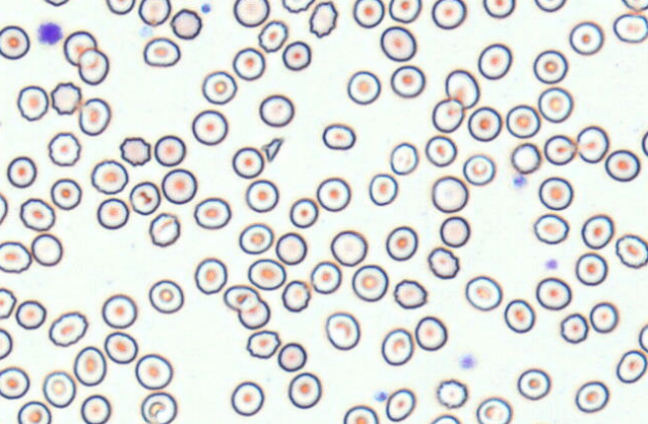PLT: (36, 22, 63, 46), (511, 175, 531, 193), (459, 354, 477, 370), (544, 258, 560, 271), (373, 390, 388, 403), (200, 3, 213, 16)
RBC: (48, 310, 88, 347), (134, 353, 173, 390), (431, 175, 468, 213), (351, 264, 388, 302), (444, 68, 479, 108), (330, 229, 367, 266), (464, 275, 502, 311), (325, 311, 360, 350), (73, 345, 106, 386), (380, 25, 416, 62), (191, 109, 228, 145), (537, 86, 573, 123), (90, 159, 128, 194), (477, 42, 512, 80), (161, 168, 197, 204), (101, 293, 137, 329), (532, 48, 568, 84), (287, 371, 321, 409), (42, 370, 76, 408), (78, 97, 111, 136), (201, 70, 237, 105), (316, 176, 351, 212), (148, 279, 184, 314), (193, 196, 231, 229), (576, 125, 609, 163), (247, 258, 286, 290), (381, 327, 413, 366), (346, 70, 381, 105), (467, 106, 502, 141), (569, 20, 604, 55), (63, 30, 97, 66), (230, 380, 264, 416), (19, 197, 55, 231), (258, 93, 294, 127), (535, 276, 571, 310), (580, 213, 614, 249), (194, 257, 227, 294), (77, 47, 109, 85), (47, 131, 81, 166), (538, 176, 573, 210), (390, 64, 425, 98), (505, 104, 540, 138), (431, 97, 464, 133), (604, 149, 640, 182), (414, 315, 447, 351), (385, 225, 418, 261), (140, 391, 177, 423), (142, 36, 180, 67), (103, 331, 138, 364), (574, 380, 609, 413), (516, 367, 551, 400), (16, 85, 48, 121), (308, 0, 338, 38), (232, 47, 265, 81), (245, 179, 279, 212), (575, 252, 608, 286), (148, 212, 180, 247), (238, 222, 273, 254), (503, 298, 535, 333), (615, 233, 647, 268), (533, 213, 569, 244), (231, 146, 264, 179), (30, 233, 63, 266), (424, 134, 457, 167), (462, 153, 495, 186), (615, 349, 647, 383), (275, 231, 307, 265), (129, 180, 160, 215), (0, 24, 30, 60), (237, 297, 270, 329), (0, 240, 32, 273), (427, 246, 459, 279), (50, 177, 82, 210), (96, 197, 129, 229), (153, 134, 186, 166), (50, 81, 81, 115), (310, 260, 341, 294), (393, 278, 427, 309), (612, 13, 647, 43), (257, 19, 288, 52), (6, 155, 37, 188), (543, 134, 576, 165), (246, 329, 280, 359), (385, 387, 415, 421), (368, 172, 398, 206), (431, 0, 466, 29), (475, 396, 512, 423), (170, 8, 202, 39), (510, 142, 541, 174), (439, 215, 470, 247), (0, 366, 30, 399), (281, 279, 311, 312), (435, 378, 468, 408), (389, 141, 418, 175), (223, 284, 259, 311), (233, 0, 269, 27), (119, 136, 151, 166), (589, 301, 619, 333), (281, 40, 311, 71), (15, 299, 46, 329), (559, 312, 588, 344), (322, 122, 355, 150), (80, 394, 111, 423), (277, 341, 306, 372), (289, 197, 318, 228), (352, 0, 384, 28), (138, 0, 171, 26), (17, 400, 51, 423), (388, 0, 421, 23), (342, 404, 378, 423), (482, 0, 515, 18), (0, 287, 16, 319), (105, 0, 135, 15), (281, 0, 314, 13), (533, 0, 566, 12), (0, 327, 12, 359), (429, 413, 461, 423), (621, 0, 647, 12), (638, 323, 647, 353), (0, 192, 8, 224), (43, 0, 69, 7), (641, 130, 647, 156)
Schistocyte: (261, 137, 285, 164)
